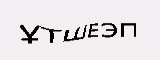Г: (98, 26, 112, 52)
П: (83, 25, 103, 54)
Р: (112, 22, 129, 47)
Х: (62, 23, 86, 58)
Ю: (28, 24, 59, 54)
